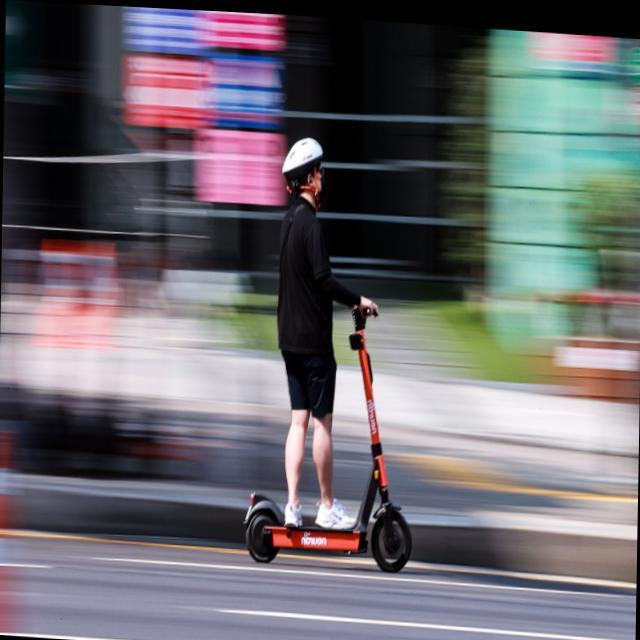Helmet: (276, 130, 332, 200)
